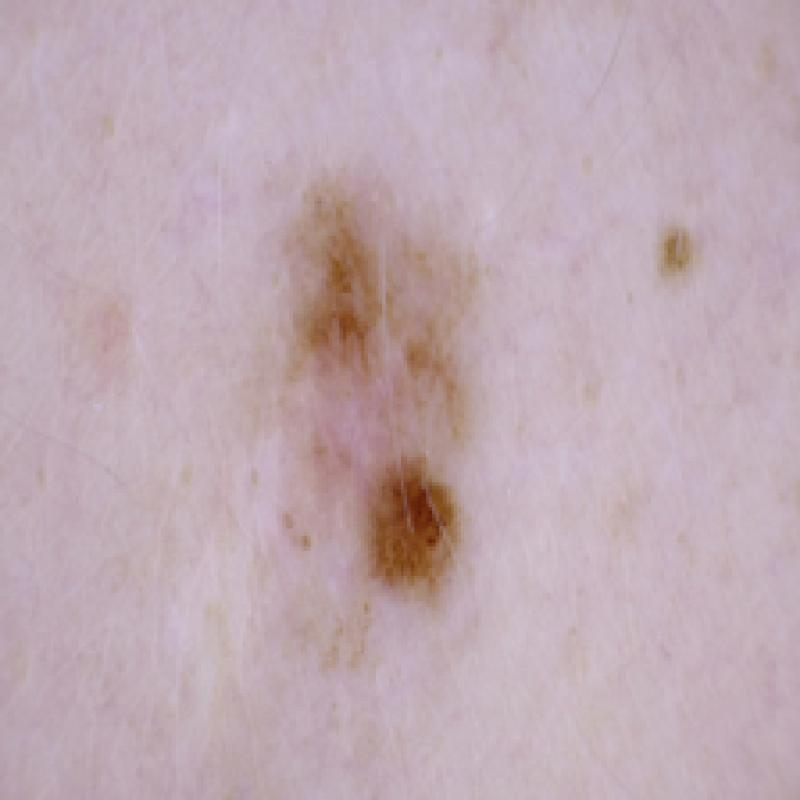benign: (240, 151, 536, 708), (633, 192, 707, 315)
